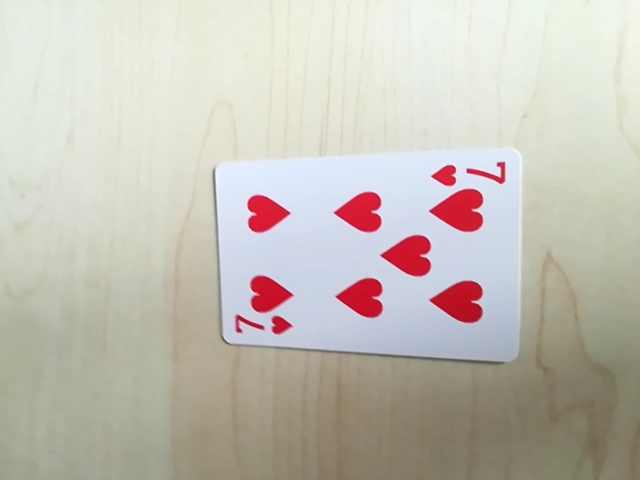hx 7: (427, 155, 509, 189), (228, 314, 295, 341)
